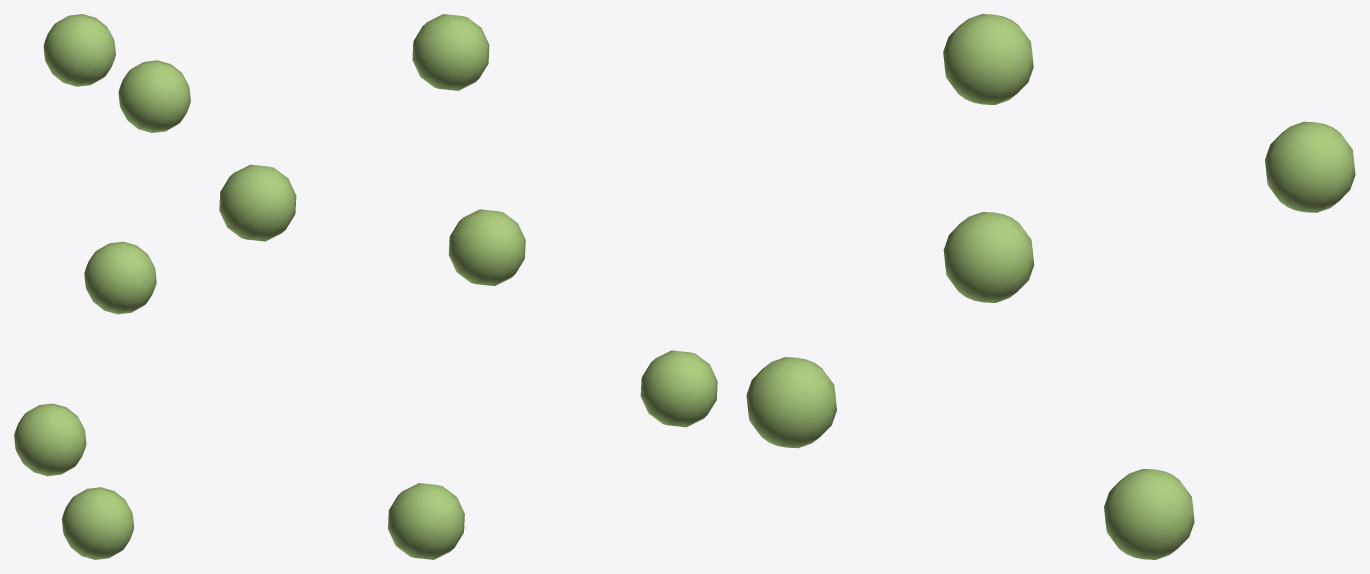
File: mastoid-nodes-l.glb
The picture shows the model from 3 angles, left to right: view 1: azimuth 30°, elevation 25°; view 2: azimuth 150°, elevation 25°; view 3: azimuth 270°, elevation 25°; orthographic projection. The views are drawn at different scales.
Parts seen in each view (by area): view 1: Mastoid nodes.l; view 2: Mastoid nodes.l; view 3: Mastoid nodes.l.
Boxes of the visible parts, box(x1,y1,x2,y2) form: Mastoid nodes.l: box(14, 14, 190, 559); Mastoid nodes.l: box(219, 14, 717, 559); Mastoid nodes.l: box(746, 14, 1355, 559).
Bounding box in the file's own units: 0.0103 × 0.0175 × 0.0172.
